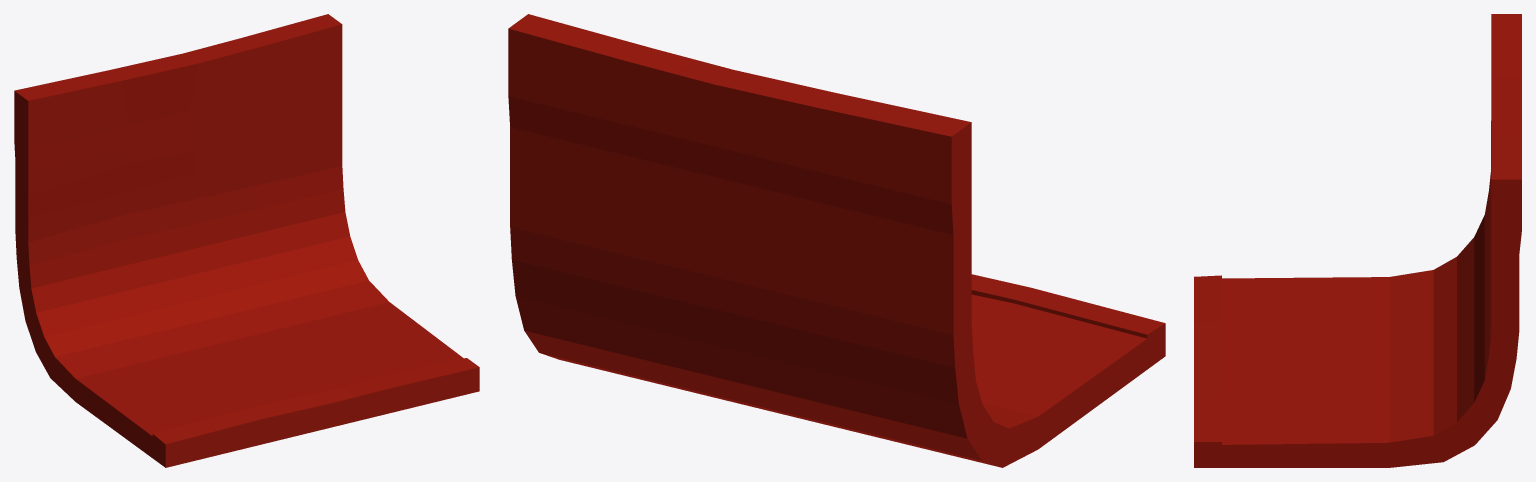
File: modulo_01.fbx
3 views of the same model, side by side, from view 1: azimuth 30°, elevation 25°; view 2: azimuth 150°, elevation 25°; view 3: azimuth 270°, elevation 25° (orthographic). The views are drawn at different scales.
Visible parts, largest first — view 1: Box319; view 2: Box319; view 3: Box319.
Part boxes in pixels (left/top/right/bottom): Box319: left=14, top=14, right=479, bottom=467; Box319: left=508, top=14, right=1165, bottom=467; Box319: left=1194, top=14, right=1521, bottom=467.
Size of the model in its own units: 51.16 by 41.47 by 42.75.
